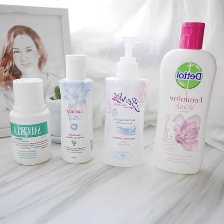cleaning_solution: (147, 19, 220, 178), (97, 31, 156, 170), (57, 53, 97, 165), (7, 75, 53, 166)
